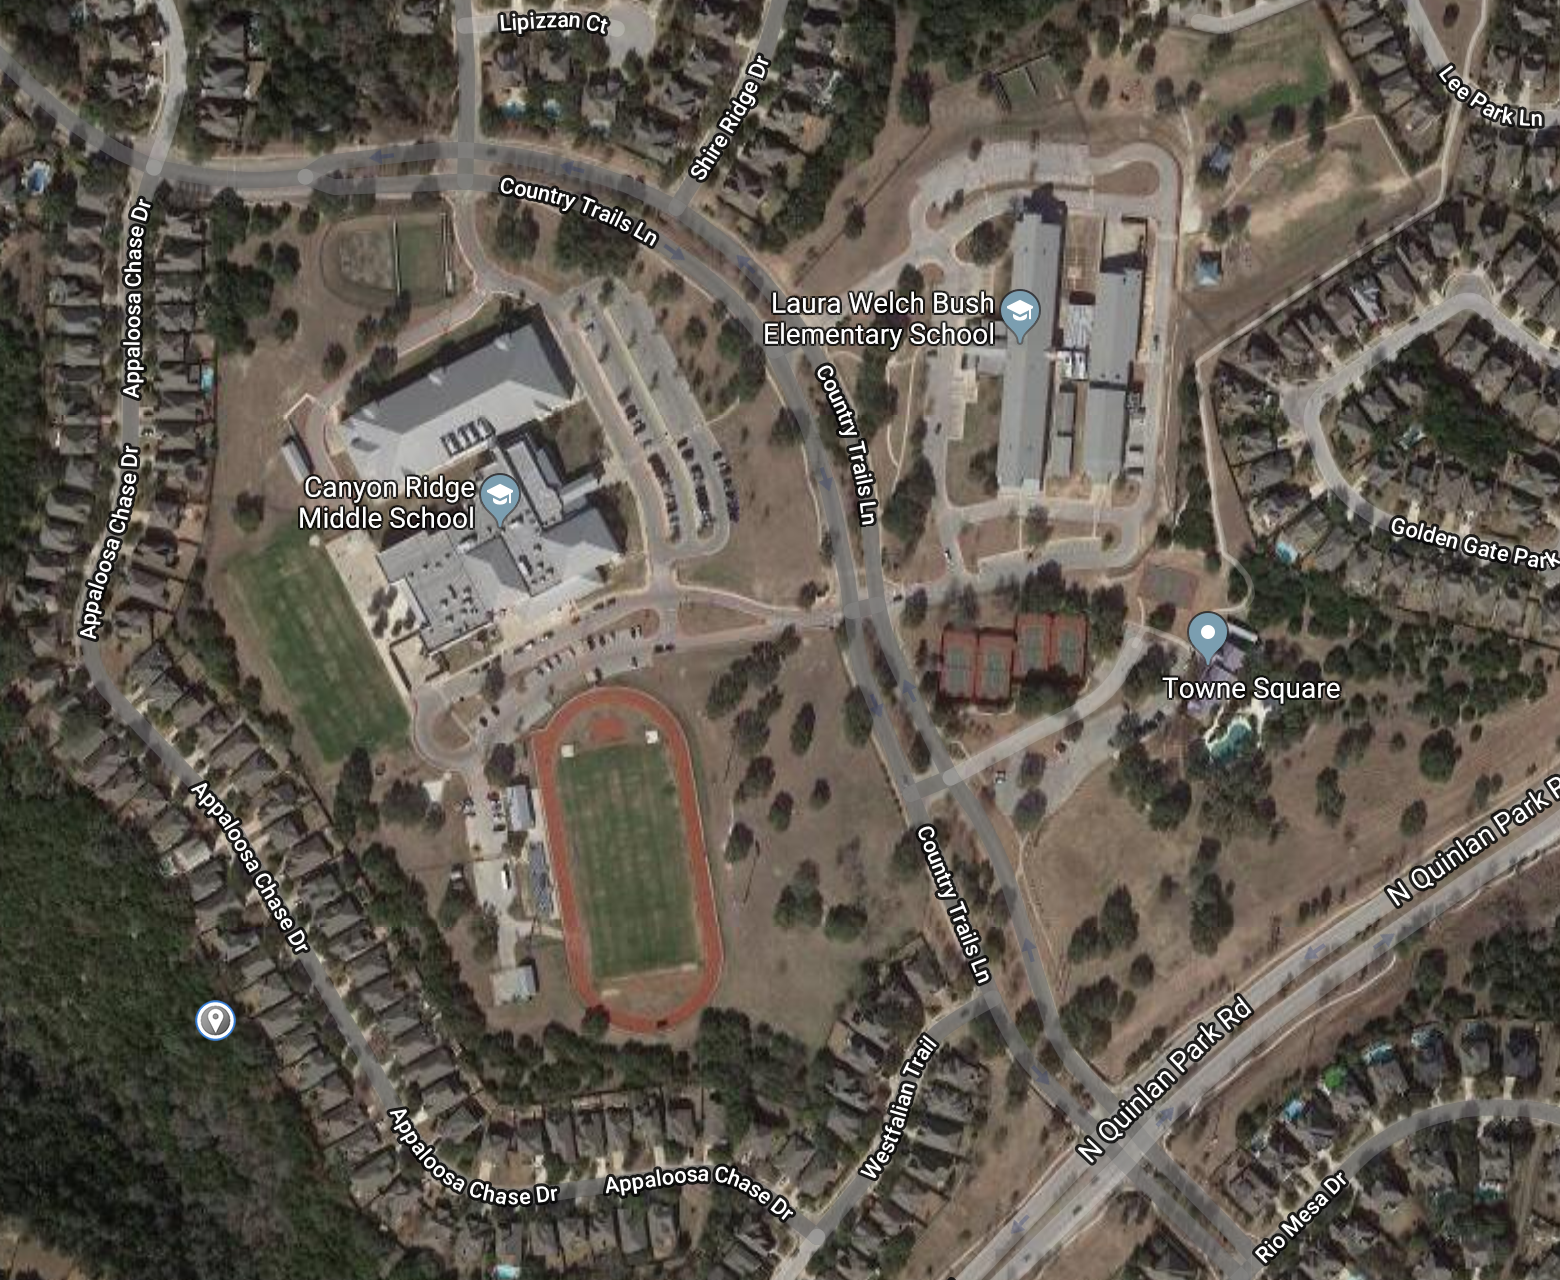football: (525, 667, 764, 1043)
soccer: (211, 517, 431, 766)
